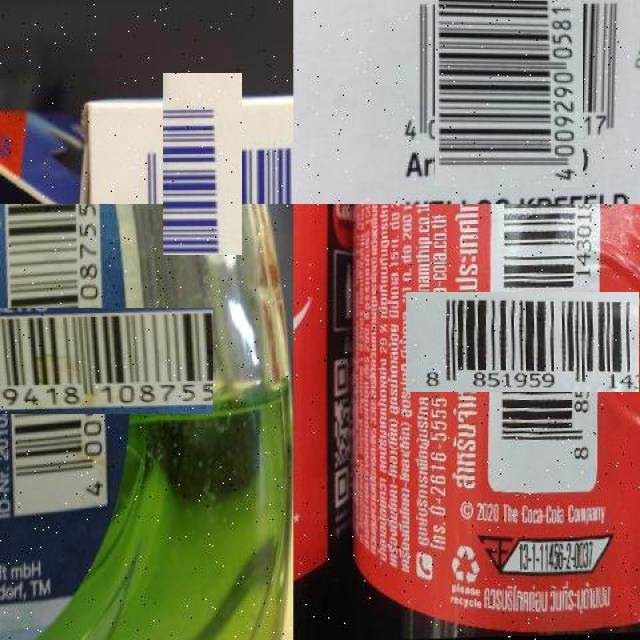Barcode: (450, 248, 638, 436), (0, 256, 161, 466), (415, 0, 603, 167), (136, 98, 268, 230)
